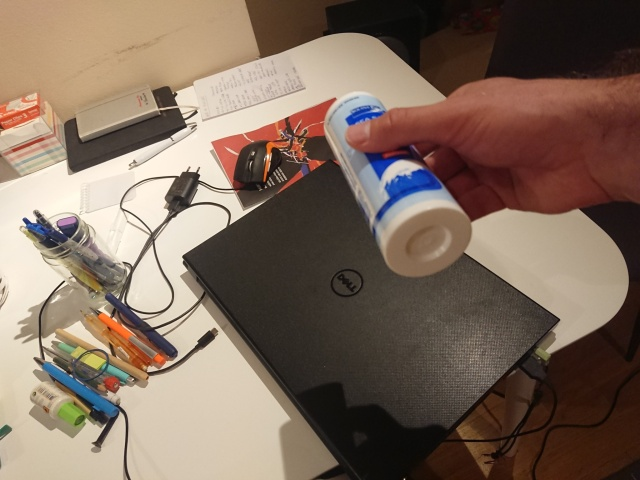Solana Pag Fine Sea Salt 250g: (321, 89, 474, 280)
